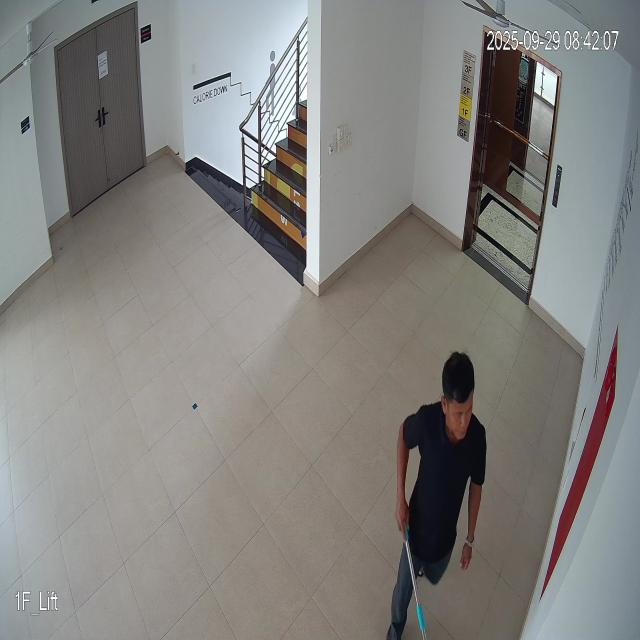face: (438, 348, 476, 450)
